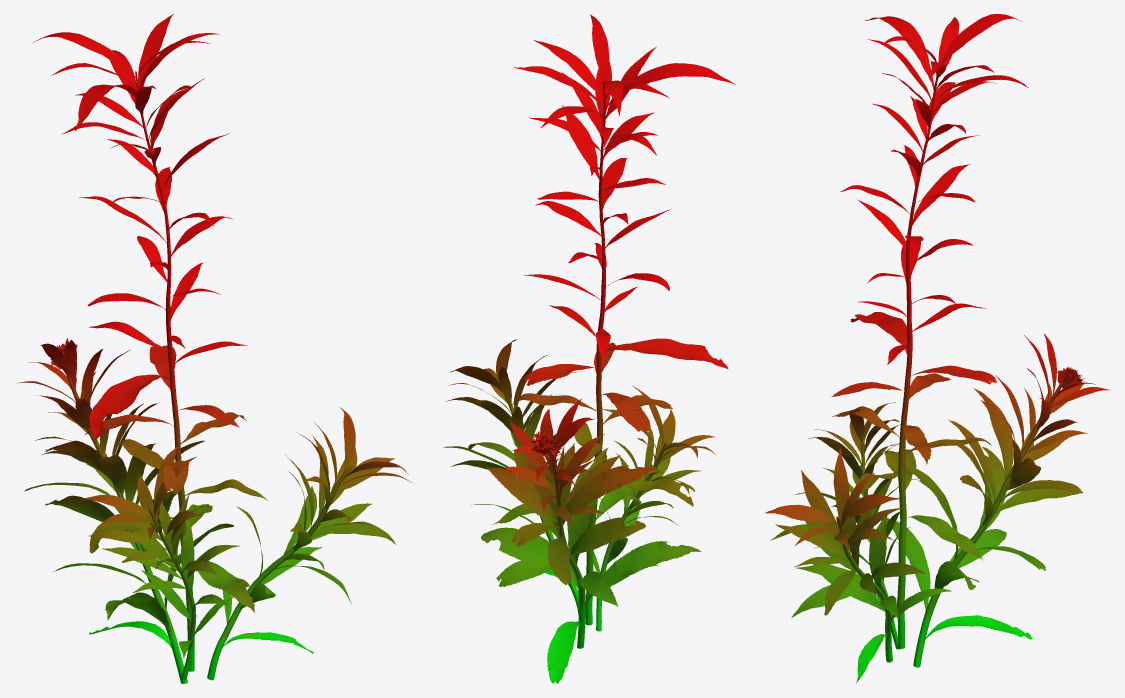
Rendered from Goldenrods_LOD1_Var3.fbx.
3 views of the same model, side by side, from view 1: azimuth 30°, elevation 25°; view 2: azimuth 150°, elevation 25°; view 3: azimuth 270°, elevation 25° (orthographic). The views are drawn at different scales.
Visible parts, largest first — view 1: _ir6n_Var3_LOD1; view 2: _ir6n_Var3_LOD1; view 3: _ir6n_Var3_LOD1.
Boxes of the visible parts, x1,y1,x2,y2 form: _ir6n_Var3_LOD1: [17, 14, 412, 683]; _ir6n_Var3_LOD1: [443, 14, 735, 683]; _ir6n_Var3_LOD1: [765, 14, 1109, 683].
Size of the model in its own units: 63.94 by 128 by 63.94.
